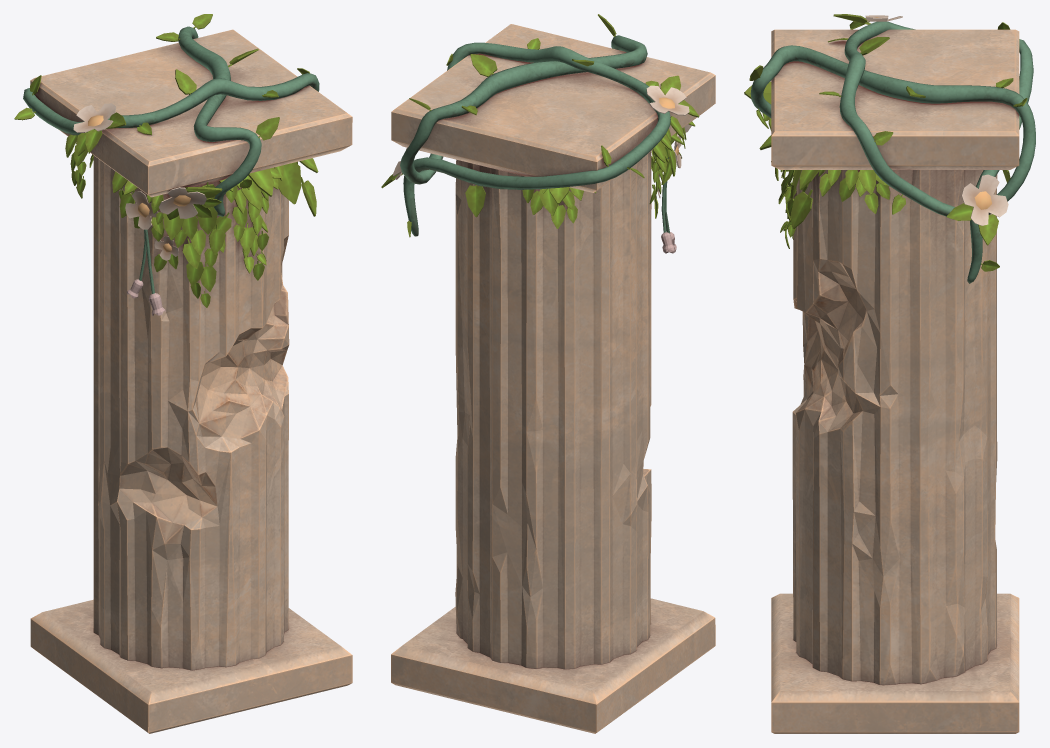
Rendered from stylized_pillar.glb.
3 views of the same model, side by side, from view 1: azimuth 30°, elevation 25°; view 2: azimuth 150°, elevation 25°; view 3: azimuth 270°, elevation 25° (orthographic). The views are drawn at different scales.
Parts seen in each view (by area): view 1: PillarMain, PillarTop, PillarBottom, Leaves, Vine, Flower; view 2: PillarMain, PillarTop, PillarBottom, Vine, Leaves, Flower; view 3: PillarMain, PillarTop, PillarBottom, Vine, Leaves, Flower.
Part boxes in pixels (left/top/right/bottom): PillarMain: left=93, top=155, right=289, bottom=670; PillarTop: left=30, top=29, right=352, bottom=197; PillarBottom: left=30, top=599, right=352, bottom=733; Leaves: left=14, top=14, right=318, bottom=307; Vine: left=23, top=26, right=319, bottom=216; Flower: left=73, top=103, right=206, bottom=315; PillarMain: left=455, top=151, right=651, bottom=669; PillarTop: left=391, top=24, right=715, bottom=192; PillarBottom: left=391, top=598, right=715, bottom=733; Vine: left=400, top=35, right=670, bottom=236; Leaves: left=381, top=14, right=699, bottom=237; Flower: left=393, top=85, right=691, bottom=253; PillarMain: left=792, top=170, right=997, bottom=685; PillarTop: left=771, top=29, right=1019, bottom=169; PillarBottom: left=771, top=593, right=1019, bottom=733; Vine: left=750, top=21, right=1035, bottom=283; Leaves: left=744, top=14, right=1027, bottom=271; Flower: left=770, top=15, right=1008, bottom=225.
Bounding box in the file's own units: 0.3327 × 0.7396 × 0.3073.
1 material, 1 textured.
